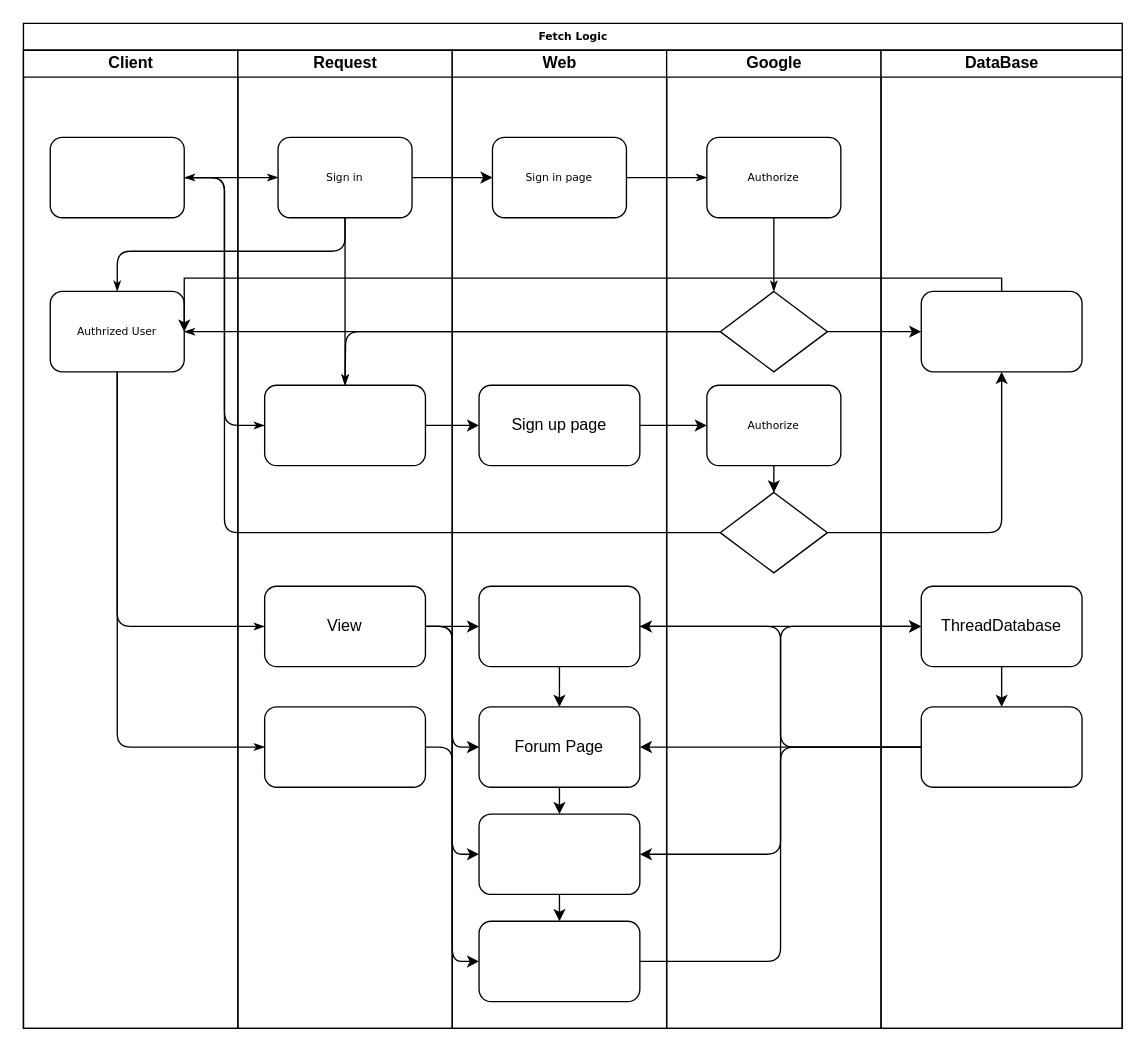
This 1146x1052 diagram has some shape labels left out. The shapes that lost their labels are listed below. From the top down, each one's centre as x and y in pixels, then its label:
At [116,177]: "User Client".
At [1001,331]: "User Profile".
At [344,425]: "Sign up".
At [559,626]: "Dashboard".
At [344,746]: "Create".
At [1001,746]: "Thread".
At [559,853]: "ThreadPage".
At [559,961]: "Crate Thread".
